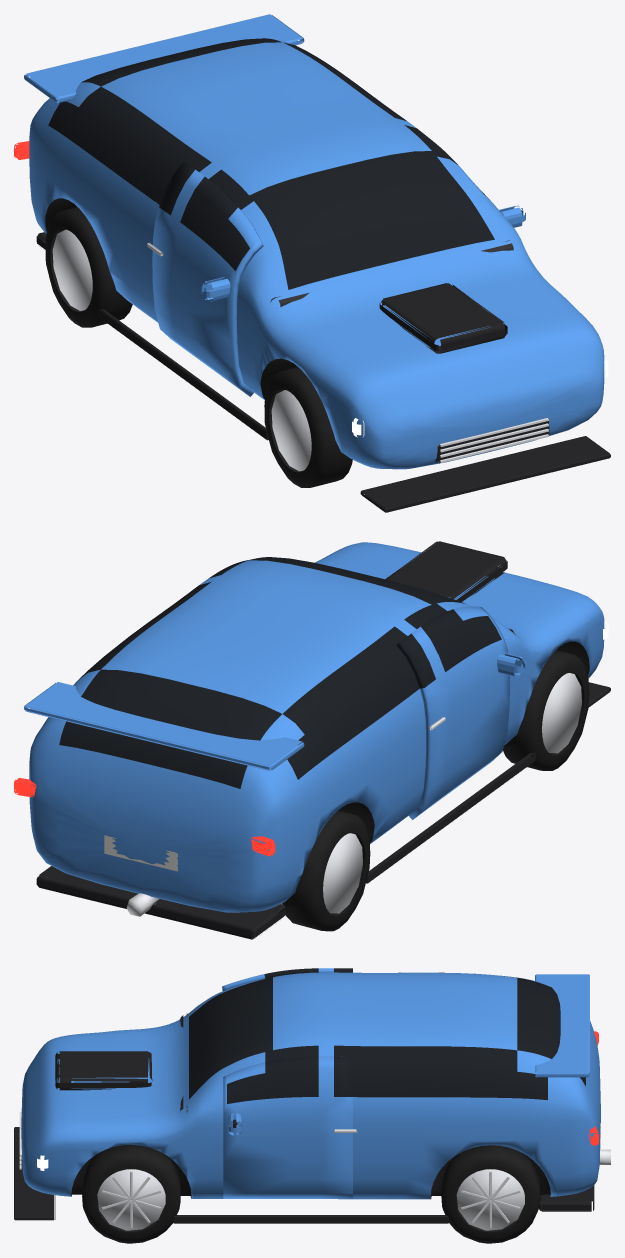
The model's file is fox.glb.
3 renders of one model, top to bottom at view 1: azimuth 30°, elevation 25°; view 2: azimuth 150°, elevation 25°; view 3: azimuth 270°, elevation 25°, orthographic. The views are drawn at different scales.
Visible parts, largest first — view 1: body, door_R, splitter, wing, scoop, tire.001, tire.003, rim.003, rim.001, skirt.001, grille; view 2: body, door_R, wing, diffuser, tire.003, scoop, tire.001, rim.003, rim.001, skirt.001, plate, mirror.001; view 3: body, door_L, tire, tire.002, wing, scoop, rim.002, rim, skirt, splitter, diffuser, door_R.
Part boxes in pixels (x1,y1,x2,y2): body: (29, 38, 604, 469); door_R: (152, 161, 263, 396); splitter: (360, 436, 610, 512); wing: (24, 14, 304, 103); scoop: (379, 283, 507, 353); tire.001: (264, 366, 352, 487); tire.003: (45, 207, 132, 327); rim.003: (52, 229, 92, 310); rim.001: (271, 390, 311, 471); skirt.001: (98, 309, 268, 440); grille: (435, 418, 549, 463); body: (29, 542, 604, 912); door_R: (396, 606, 509, 819); wing: (24, 682, 304, 770); diffuser: (36, 866, 286, 939); tire.003: (282, 810, 370, 931); scoop: (385, 541, 507, 601); tire.001: (503, 650, 589, 770); rim.003: (323, 833, 362, 913); rim.001: (542, 673, 581, 753); skirt.001: (366, 752, 535, 883); plate: (104, 835, 177, 871); mirror.001: (497, 652, 525, 677); body: (21, 972, 600, 1199); door_L: (223, 1056, 352, 1199); tire: (82, 1144, 180, 1243); tire.002: (441, 1145, 539, 1243); wing: (535, 974, 589, 1077); scoop: (55, 1051, 152, 1090); rim.002: (456, 1169, 524, 1230); rim: (97, 1169, 165, 1230); skirt: (173, 1215, 449, 1223); splitter: (14, 1127, 55, 1220); diffuser: (539, 1185, 594, 1211); door_R: (222, 968, 352, 1056).
Size of what is drawn, in the model's own units: 2.2 by 1.5 by 4.32.
